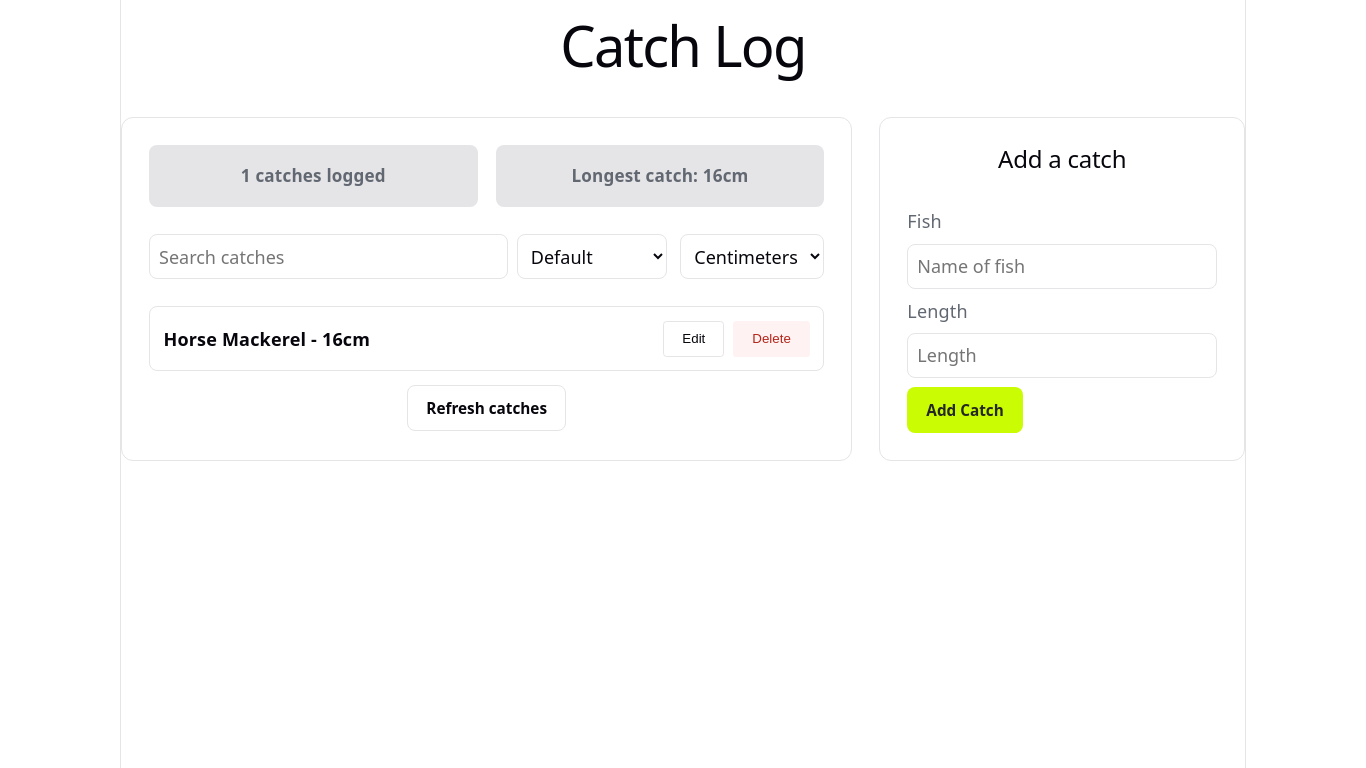
it: deletes a catch from the catch log
Check: the link "Horse Mackerel" is shown, box [164, 327, 306, 351]
Click the button "Delete" at (772, 339), box [733, 321, 810, 357]
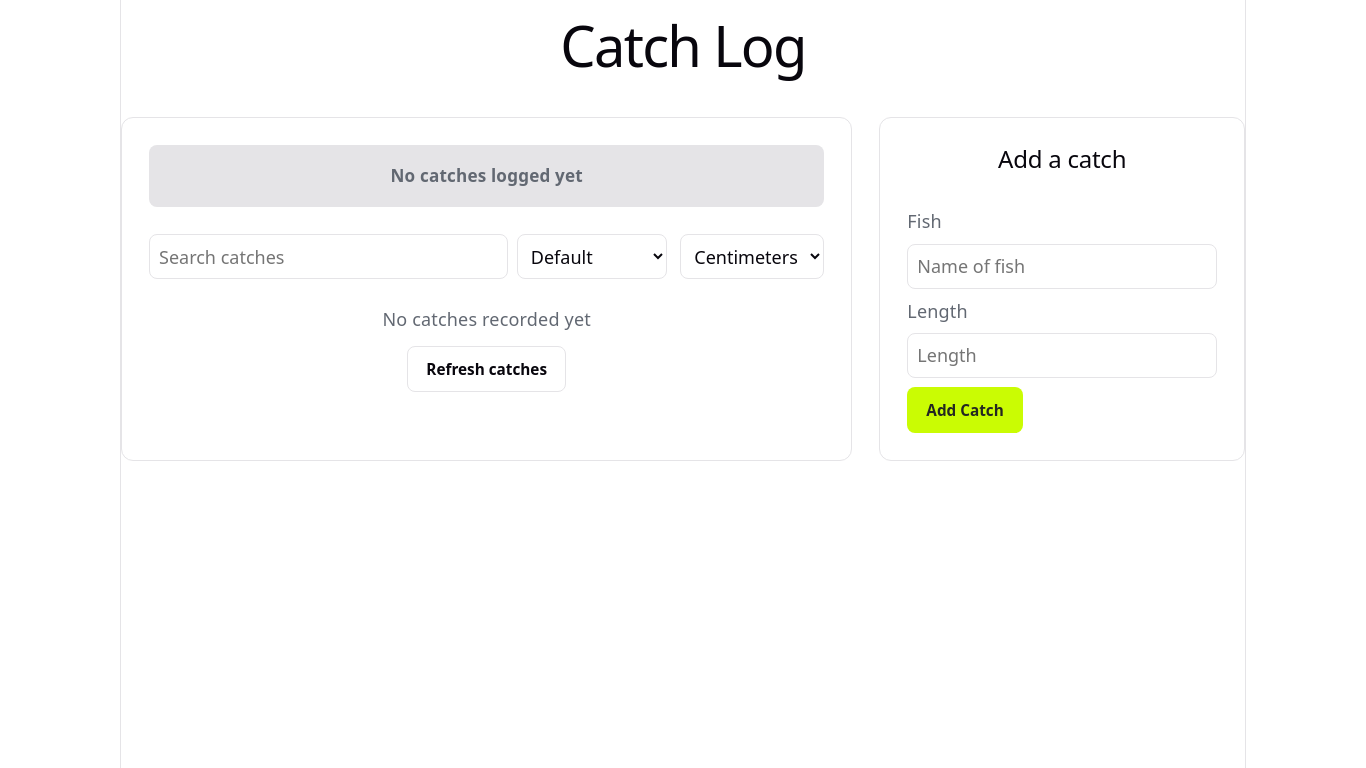
Check: the link "Horse Mackerel" is gone
